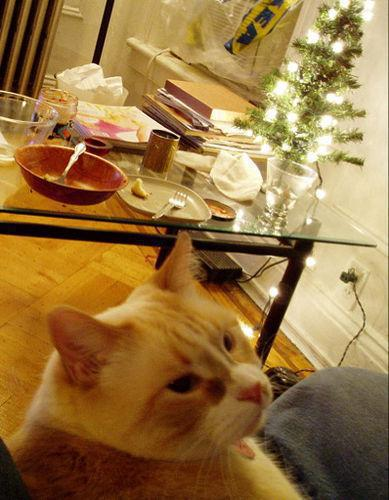Matera: (241, 9, 370, 196)
Otro Obstaculo: (15, 218, 309, 495)
